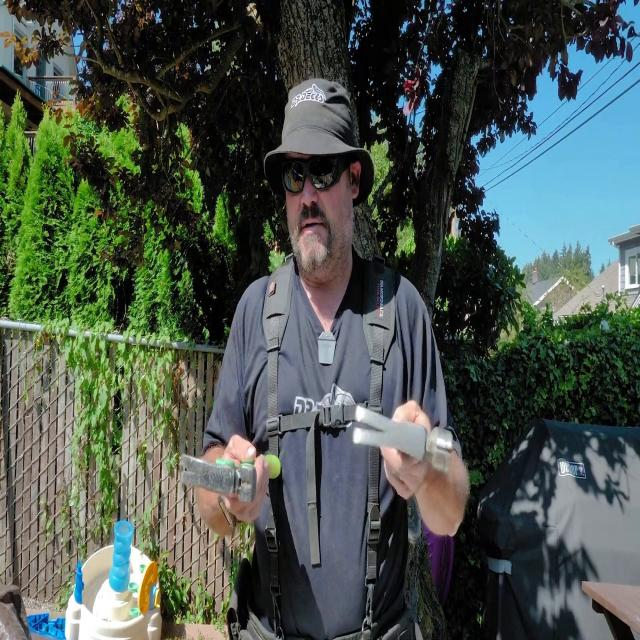hammer: (354, 402, 454, 475), (181, 452, 282, 503)
